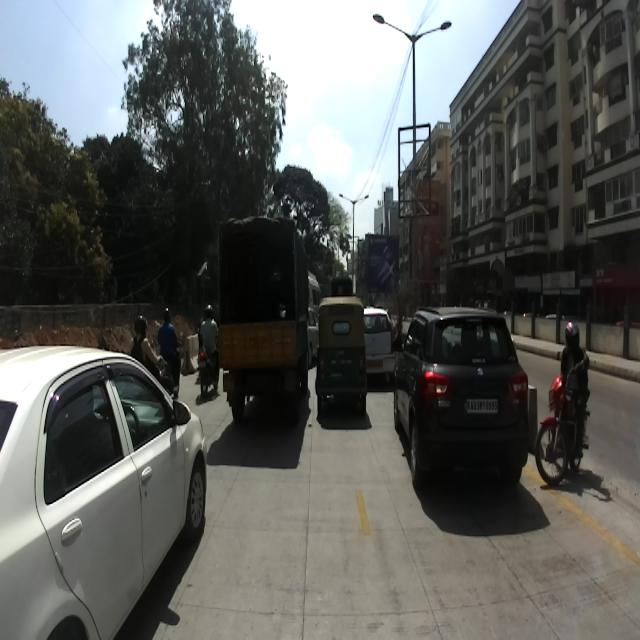auto ahead at: (316, 299, 368, 421)
car ahead at: (2, 342, 202, 640), (394, 299, 531, 491)
motorcycle ahead at: (535, 376, 596, 486)
truck ahead at: (214, 214, 312, 429)
